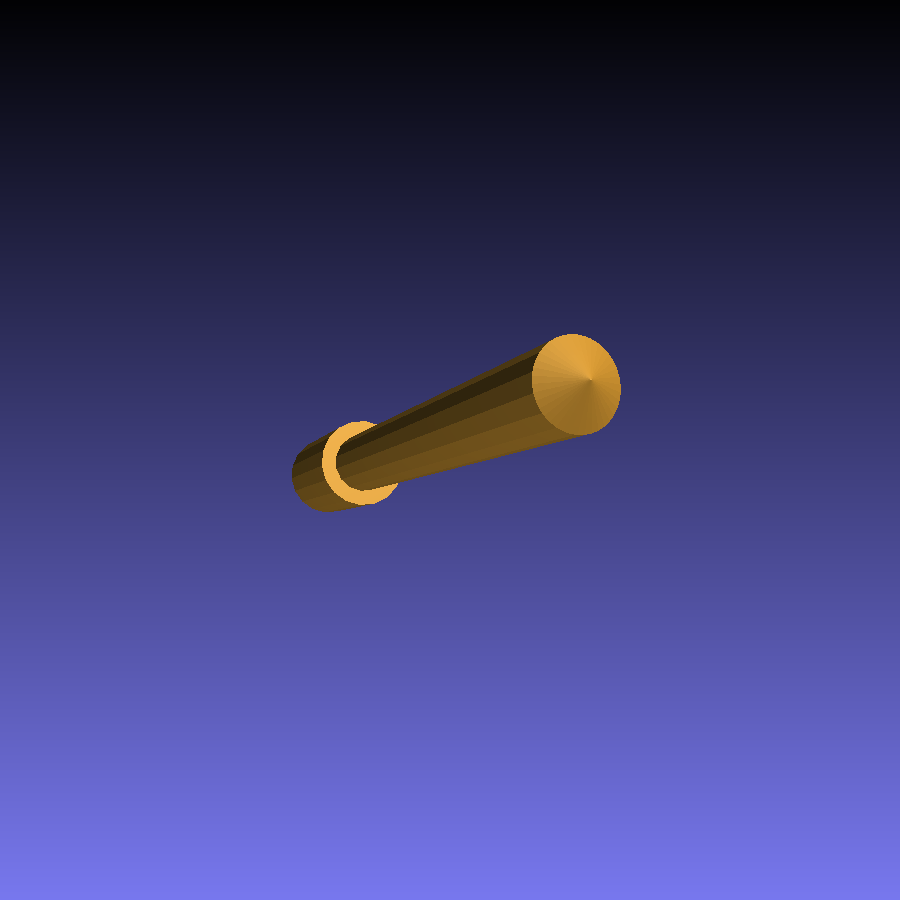cargo_g: (293, 331, 621, 515)
